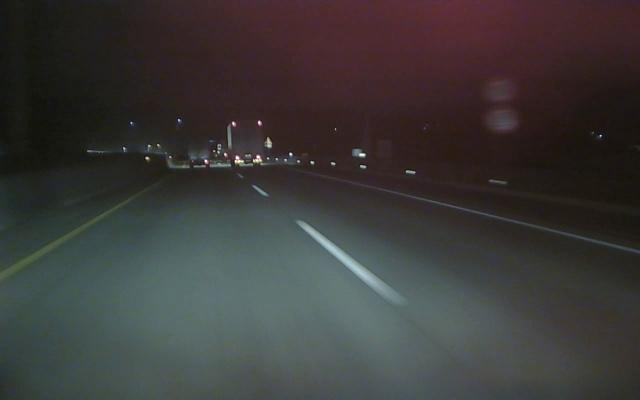lane: (253, 184, 410, 308), (372, 188, 638, 255), (1, 210, 111, 281)
